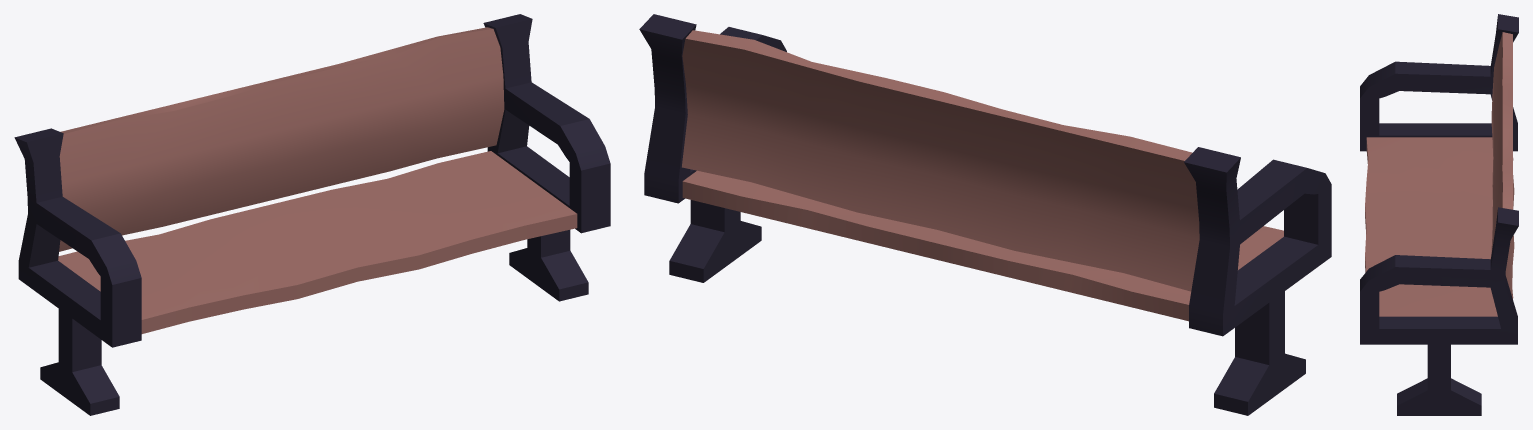
The model's file is public-bench.fbx.
3 renders of one model, left to right at view 1: azimuth 30°, elevation 25°; view 2: azimuth 150°, elevation 25°; view 3: azimuth 270°, elevation 25°, orthographic. The views are drawn at different scales.
Parts seen in each view (by area): view 1: 3. public-bench; view 2: 3. public-bench; view 3: 3. public-bench.
Boxes of the visible parts, x1=… form: 3. public-bench: x1=14, y1=14, x2=610, y2=415; 3. public-bench: x1=639, y1=14, x2=1331, y2=415; 3. public-bench: x1=1360, y1=14, x2=1518, y2=415.
Size of the model in its own units: 2.85 by 1.25 by 0.918.
